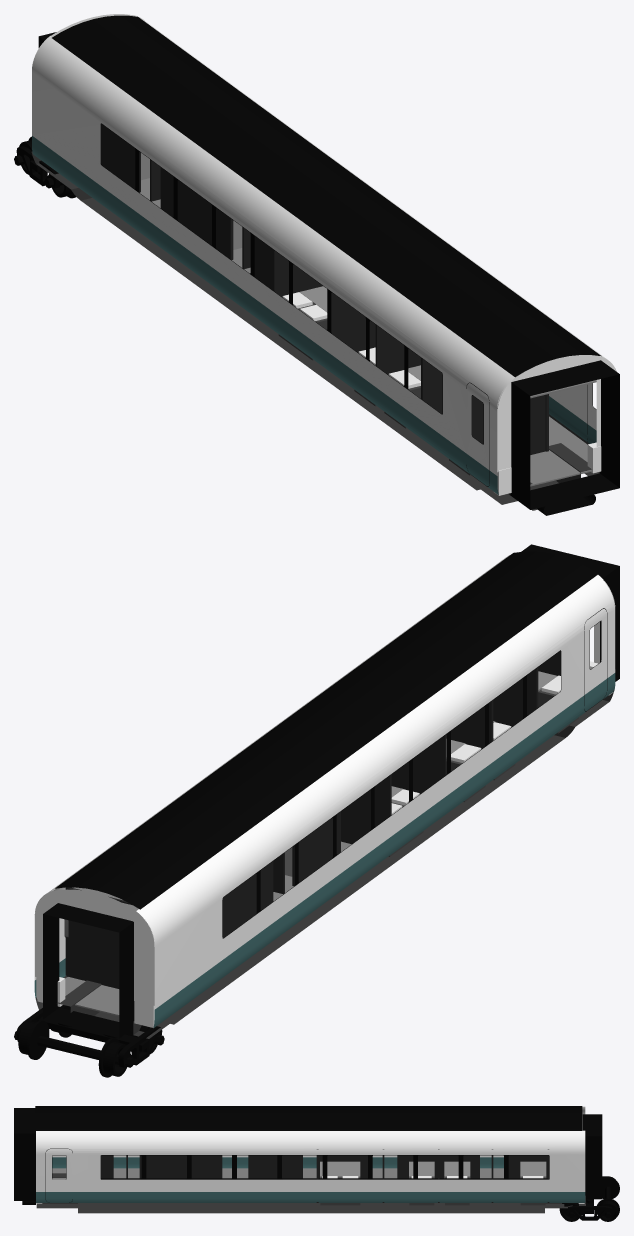
The model's file is hs_train_sleeper_car.glb.
3 renders of one model, top to bottom at view 1: azimuth 30°, elevation 25°; view 2: azimuth 150°, elevation 25°; view 3: azimuth 270°, elevation 25°, orthographic. The views are drawn at different scales.
Visible parts, largest first — view 1: SketchUp, Mesh_1621_1, Box (×9); view 2: SketchUp, Mesh_1621_1, Box (×8), Line004, Circle014, Circle015, NGon009, Rectangle004; view 3: SketchUp, Mesh_1621_1, Box (×11), Line004, Circle015, Circle014.
Boxes of the visible parts, left/top/right/bottom form: SketchUp: left=31, top=14, right=619, bottom=515; Mesh_1621_1: left=52, top=15, right=601, bottom=377; Box (×9): left=100, top=123, right=591, bottom=486; SketchUp: left=34, top=544, right=619, bottom=1038; Mesh_1621_1: left=55, top=551, right=598, bottom=909; Box (×8): left=65, top=667, right=538, bottom=1016; Line004: left=16, top=1008, right=162, bottom=1067; Circle014: left=18, top=1021, right=126, bottom=1076; Circle015: left=27, top=1020, right=119, bottom=1077; NGon009: left=14, top=1031, right=133, bottom=1067; Rectangle004: left=37, top=1016, right=149, bottom=1051; SketchUp: left=14, top=1106, right=602, bottom=1213; Mesh_1621_1: left=35, top=1106, right=582, bottom=1130; Box (×11): left=52, top=1155, right=547, bottom=1179; Line004: left=566, top=1176, right=612, bottom=1220; Circle015: left=597, top=1177, right=619, bottom=1216; Circle014: left=598, top=1176, right=617, bottom=1221.
Bounding box in the file's own units: 3.01 × 3.86 × 22.06.
